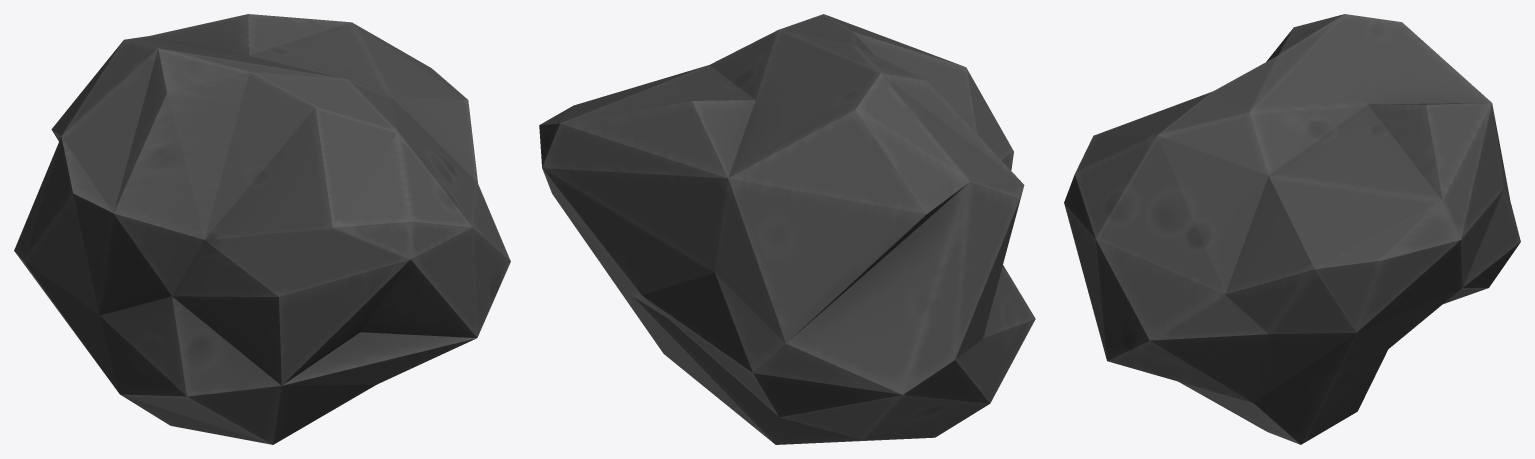
The model's file is rock_10.obj.
The picture shows the model from 3 angles, left to right: view 1: azimuth 30°, elevation 25°; view 2: azimuth 150°, elevation 25°; view 3: azimuth 270°, elevation 25°; orthographic projection. The views are drawn at different scales.
Parts seen in each view (by area): view 1: Asteroids_Mesh.010; view 2: Asteroids_Mesh.010; view 3: Asteroids_Mesh.010.
Boxes of the visible parts, x1=… form: Asteroids_Mesh.010: x1=14, y1=14, x2=510, y2=444; Asteroids_Mesh.010: x1=539, y1=14, x2=1035, y2=444; Asteroids_Mesh.010: x1=1064, y1=14, x2=1520, y2=444.
Bounding box in the file's own units: 2.25 × 2.03 × 2.23.
